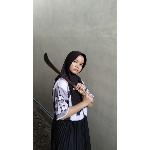Golok: (44, 52, 90, 99)
